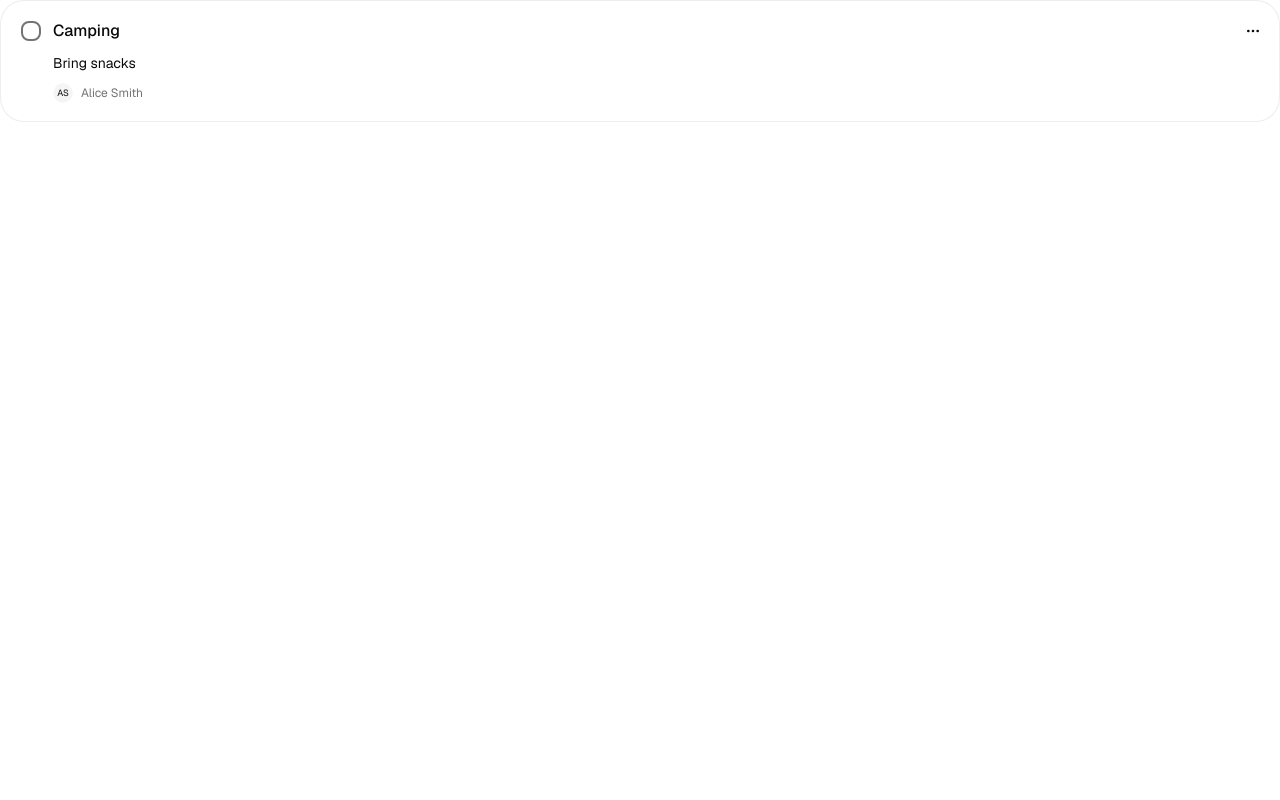
Test case: BucketItemCard › asks before deleting and does nothing on cancel
The width and height of the screenshot is (1280, 800).
What coordinates should you click on to do the following:
click the button named "Actions for Camping"
I would click on:
 (1253, 31)
Its box is [1235,13,1271,49].
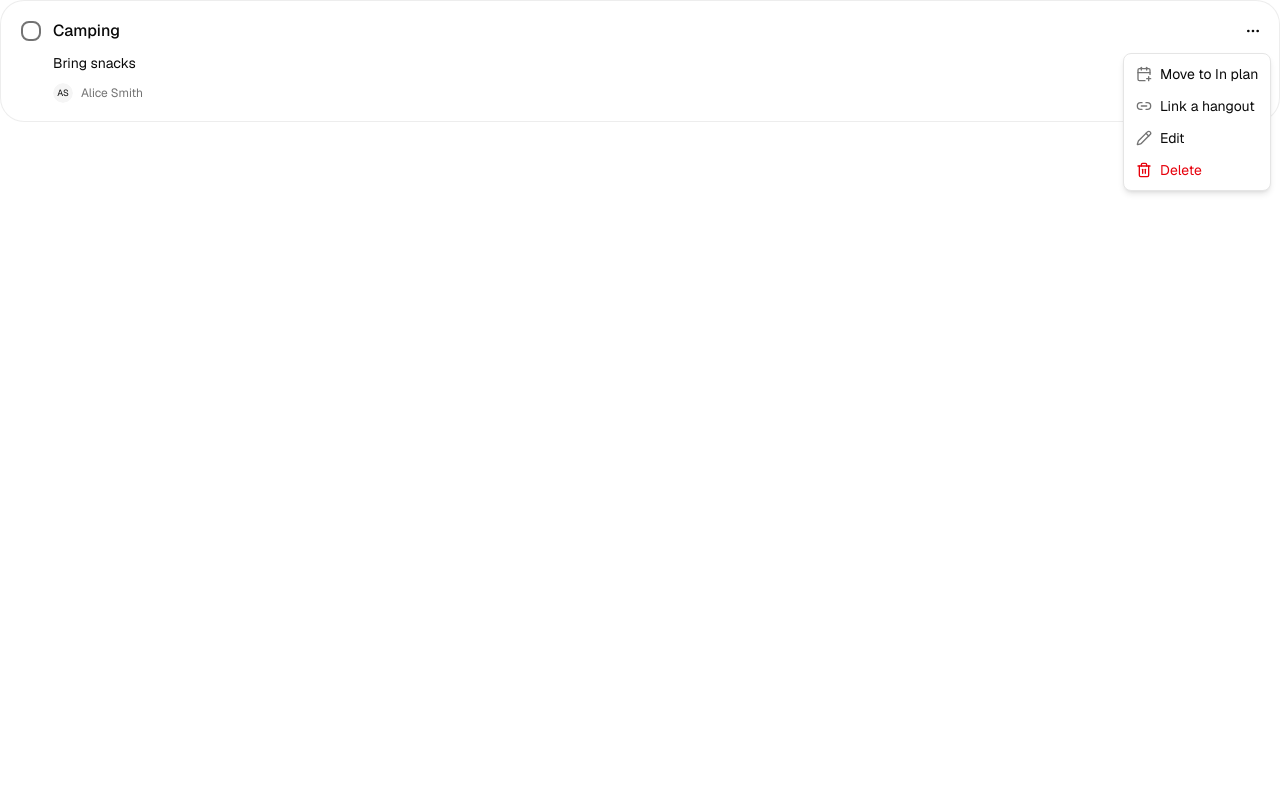
What coordinates should you click on to do the following:
click the menu item "Delete"
I would click on:
 (1169, 170)
Its box is [1136,161,1202,179].
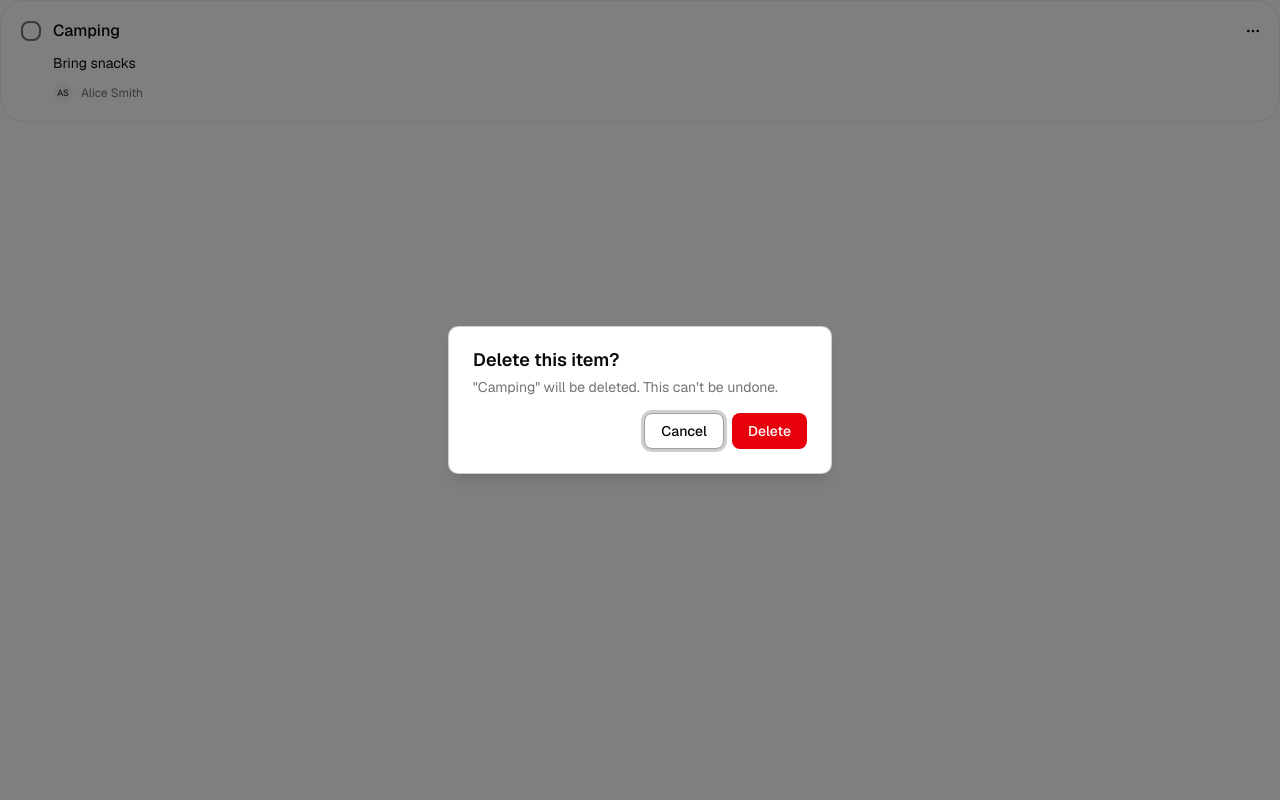
expect the heading "Delete this item?" is shown: met, box [473,348,619,371]
expect the text "\"Camping\" will be deleted. This can't be undone." is shown: met, box [473,377,807,397]
What coordinates should you click on to do the following:
click the button "Cancel"
I would click on:
 (684, 431)
Its box is [644,413,724,449].
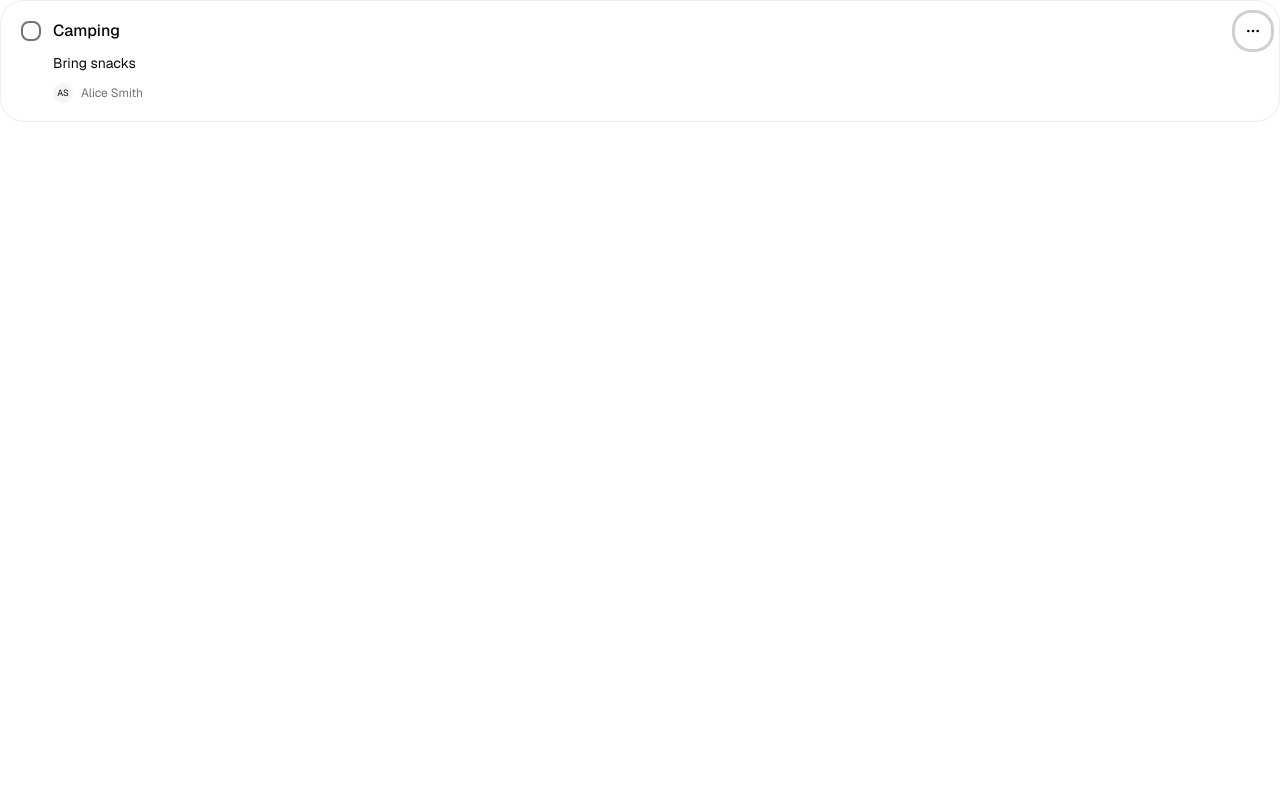
expect the heading "Delete this item?" is gone: met
